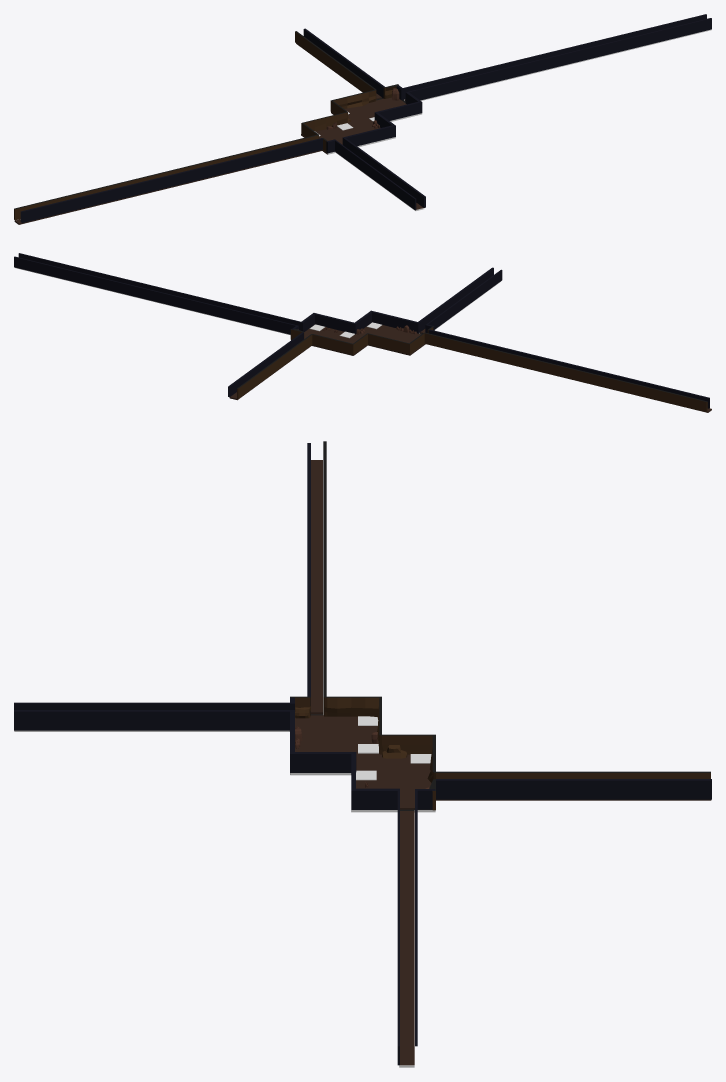
File: sala14DET.fbx
3 renders of one model, top to bottom at view 1: azimuth 30°, elevation 25°; view 2: azimuth 150°, elevation 25°; view 3: azimuth 270°, elevation 25°, orthographic. The views are drawn at different scales.
Parts seen in each view (by area): view 1: paredes_der_abajo14, paredes_izq_arriba14, suelo14; view 2: paredes_der_abajo14, paredes_izq_arriba14, suelo14; view 3: paredes_der_abajo14, suelo14, paredes_izq_arriba14.
Part boxes in pixels (bbox=[...]): paredes_der_abajo14: bbox=[20, 14, 711, 222]; paredes_izq_arriba14: bbox=[14, 31, 398, 220]; suelo14: bbox=[14, 29, 711, 224]; paredes_der_abajo14: bbox=[14, 253, 709, 408]; paredes_izq_arriba14: bbox=[237, 326, 707, 412]; suelo14: bbox=[14, 267, 711, 412]; paredes_der_abajo14: bbox=[14, 443, 711, 1065]; suelo14: bbox=[14, 460, 711, 1067]; paredes_izq_arriba14: bbox=[290, 441, 710, 810].
Bounding box in the file's own units: 40839 × 672 × 19893.
